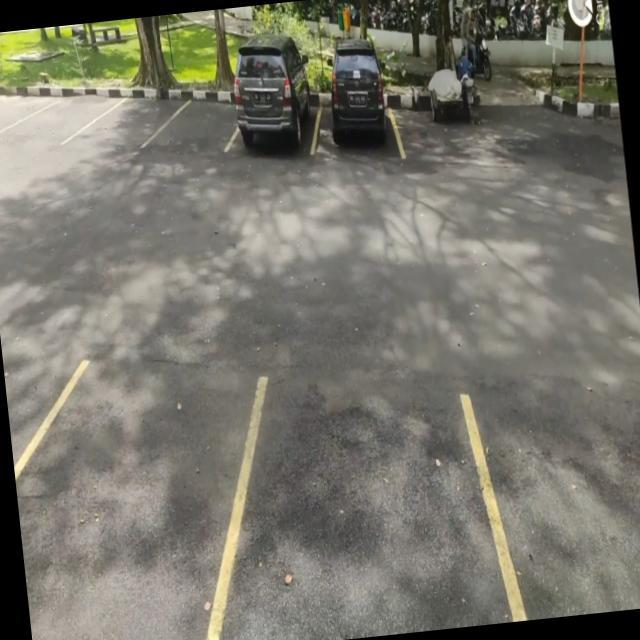empty: (231, 347, 526, 640), (3, 342, 259, 640), (155, 83, 240, 159), (8, 85, 100, 153), (83, 84, 169, 154)
occupied: (222, 29, 323, 164), (308, 40, 406, 171)
